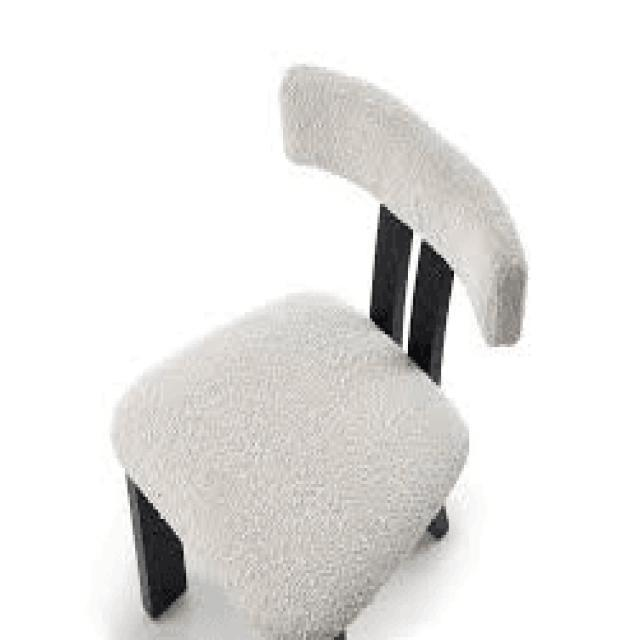chair: (103, 57, 538, 640), (123, 74, 516, 468)
